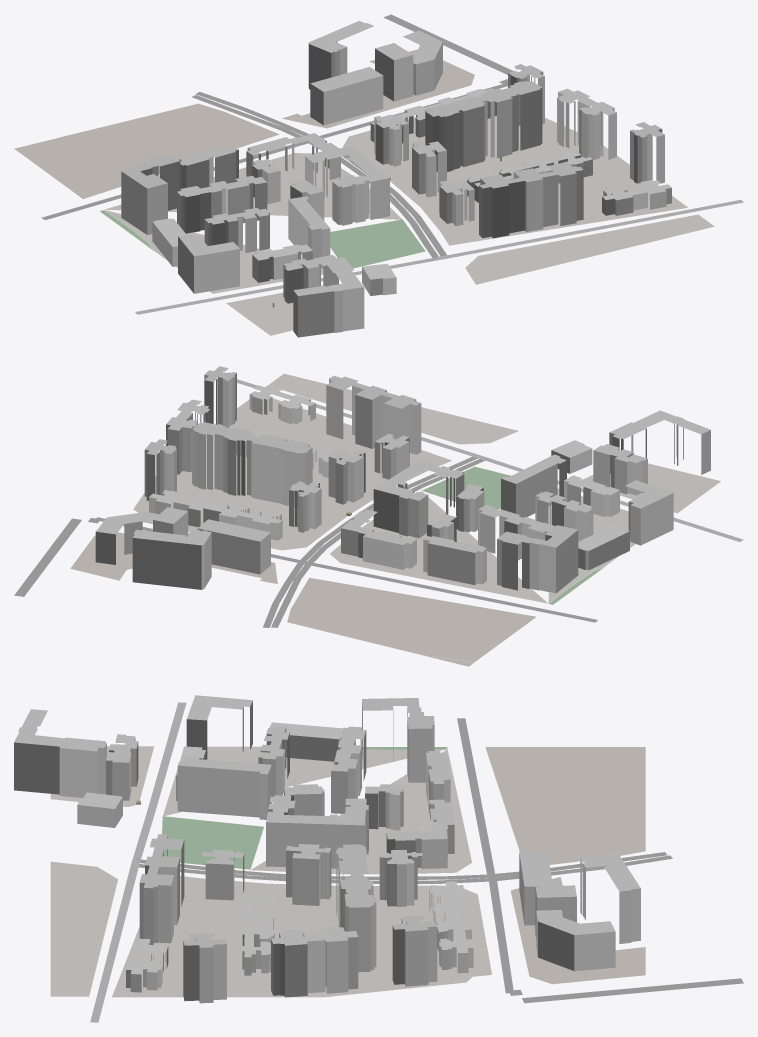
3 views of the same model, one above another, from view 1: azimuth 30°, elevation 25°; view 2: azimuth 150°, elevation 25°; view 3: azimuth 270°, elevation 25° (orthographic). The views are drawn at different scales.
Size of the model in its own units: 640 by 61.12 by 614.
